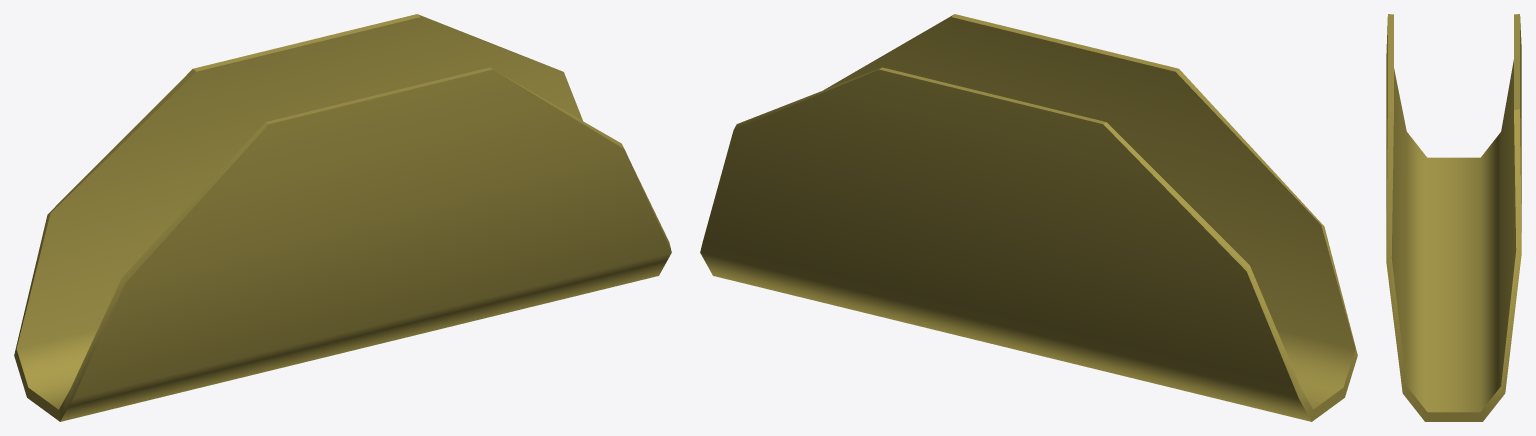
The model's file is TacoShell.fbx.
3 views of the same model, side by side, from view 1: azimuth 30°, elevation 25°; view 2: azimuth 150°, elevation 25°; view 3: azimuth 270°, elevation 25° (orthographic). The views are drawn at different scales.
Visible parts, largest first — view 1: TacoShell; view 2: TacoShell; view 3: TacoShell.
Boxes of the visible parts, x1,y1,x2,y2 form: TacoShell: [14, 14, 671, 421]; TacoShell: [700, 14, 1357, 421]; TacoShell: [1386, 14, 1521, 421].
Size of the model in its own units: 21.37 by 9.13 by 4.81.
